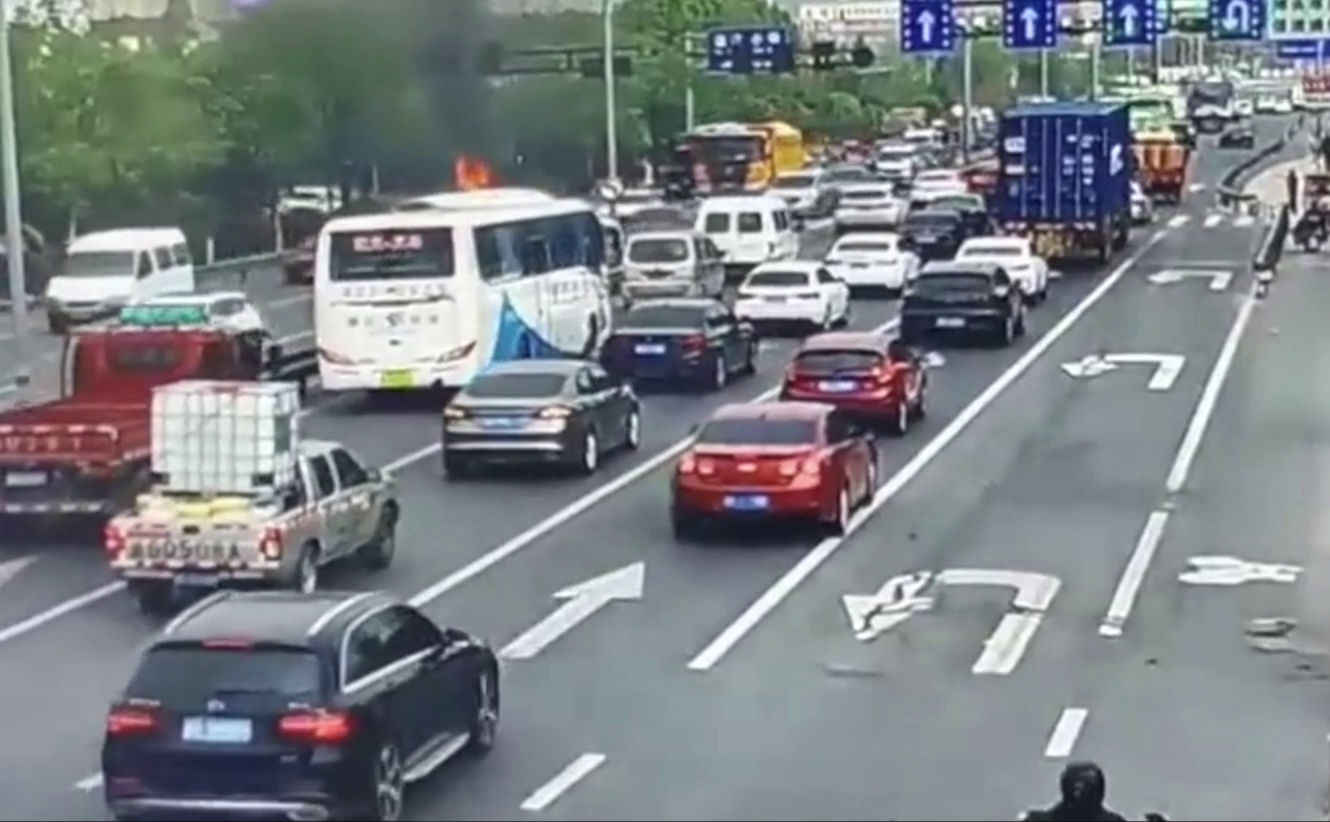smoke: (382, 40, 555, 174)
